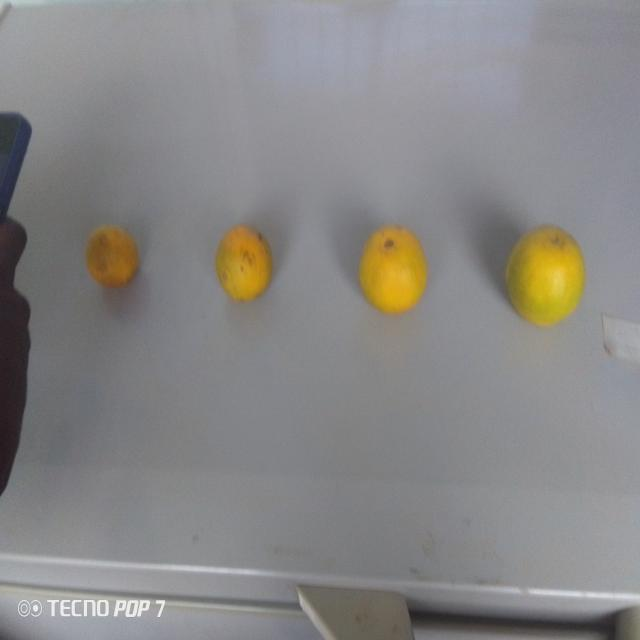Ripe orange: (500, 221, 592, 327), (355, 218, 434, 324), (209, 215, 286, 314), (83, 213, 145, 302)
